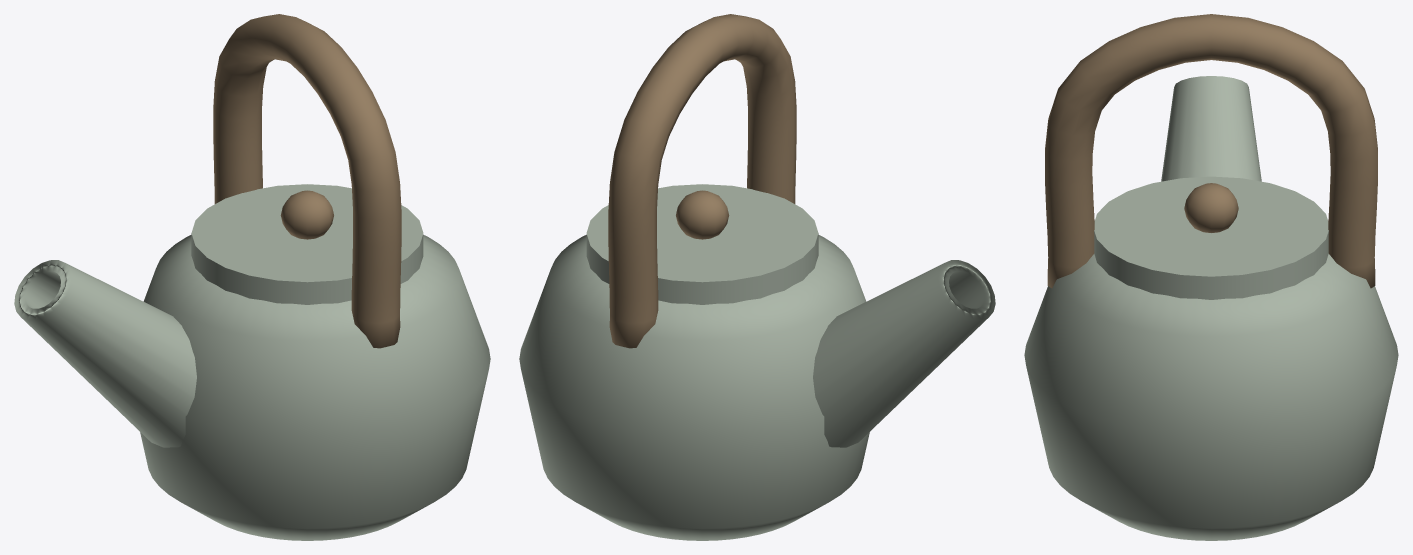
The model's file is kettle.glb.
3 renders of one model, left to right at view 1: azimuth 30°, elevation 25°; view 2: azimuth 150°, elevation 25°; view 3: azimuth 270°, elevation 25°, orthographic. The views are drawn at different scales.
Parts seen in each view (by area): view 1: kettle-body, overhead-bail, open-tapered-spout, fitted-lid, lid-knob; view 2: kettle-body, overhead-bail, open-tapered-spout, fitted-lid, lid-knob; view 3: kettle-body, overhead-bail, fitted-lid, open-tapered-spout, lid-knob.
Part boxes in pixels (box(x1,y1,x2,y2)): kettle-body: box(140, 235, 490, 540); overhead-bail: box(213, 14, 401, 348); open-tapered-spout: box(14, 260, 196, 447); fitted-lid: box(191, 184, 423, 304); lid-knob: box(280, 190, 333, 239); kettle-body: box(519, 235, 869, 540); overhead-bail: box(608, 14, 796, 348); open-tapered-spout: box(813, 260, 995, 447); fitted-lid: box(586, 184, 818, 304); lid-knob: box(676, 190, 729, 239); kettle-body: box(1024, 254, 1398, 540); overhead-bail: box(1045, 14, 1377, 288); fitted-lid: box(1094, 176, 1328, 299); open-tapered-spout: box(1161, 76, 1261, 181); lid-knob: box(1184, 183, 1238, 232).
Bounding box in the file's own units: 0.3251 × 0.3241 × 0.2317.
